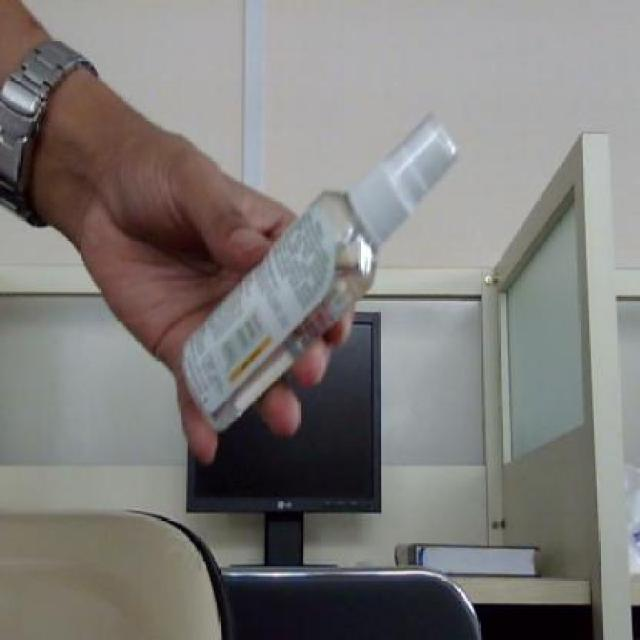Plastic: (180, 112, 457, 430)
